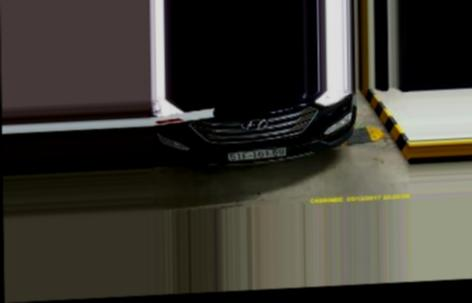License_Plate: (227, 147, 288, 161)
